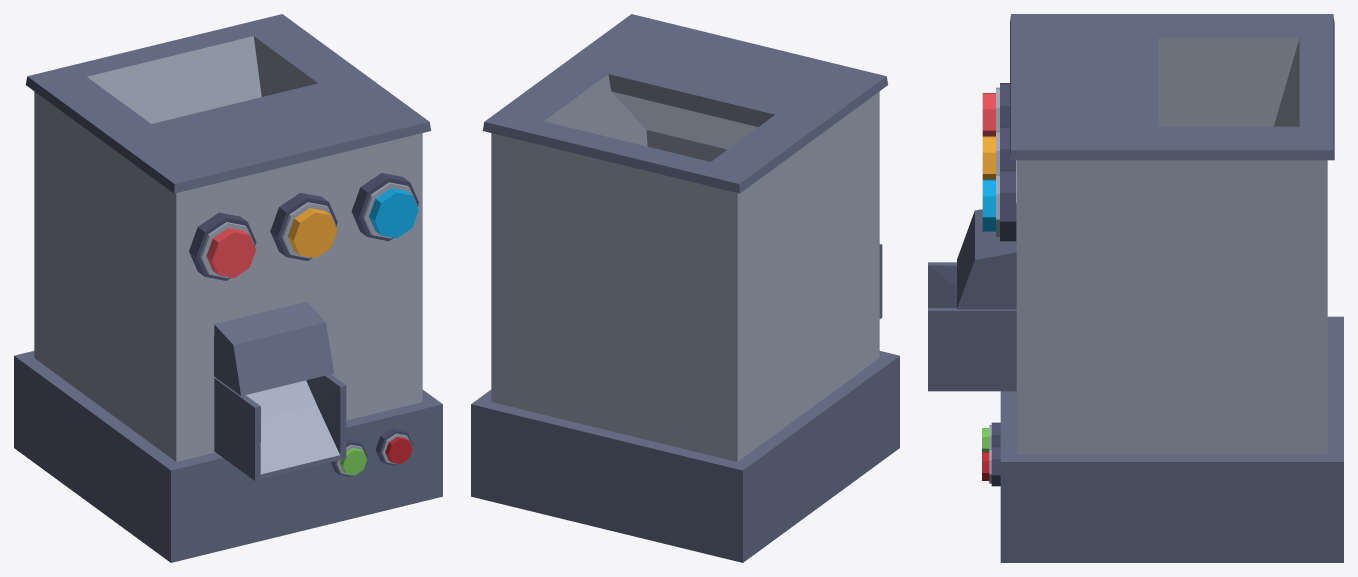
File: F_FriesMachine_001.fbx
3 renders of one model, left to right at view 1: azimuth 30°, elevation 25°; view 2: azimuth 150°, elevation 25°; view 3: azimuth 270°, elevation 25°, orthographic. The views are drawn at different scales.
Visible parts, largest first — view 1: F_FriesMachine_001; view 2: F_FriesMachine_001; view 3: F_FriesMachine_001.
Part boxes in pixels (x1,y1,x2,y2): F_FriesMachine_001: (14,14,442,562); F_FriesMachine_001: (471,14,899,562); F_FriesMachine_001: (928,14,1343,562).
Bounding box in the file's own units: 55.83 × 73.24 × 67.61.
